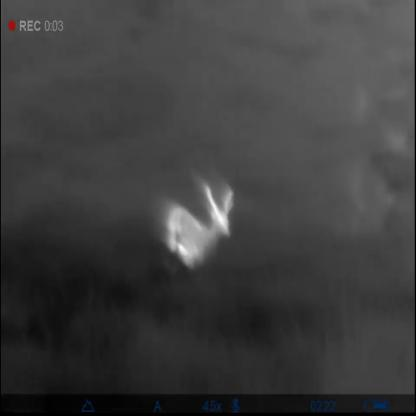rehkitze: (158, 179, 237, 272)
